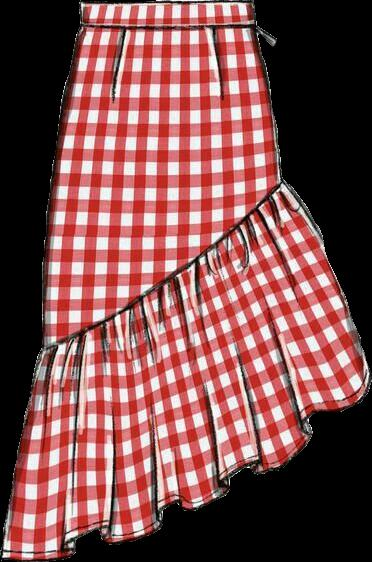Hemline: (0, 380, 371, 561)
Waistline: (41, 177, 284, 352), (79, 19, 258, 34), (79, 0, 254, 8)
